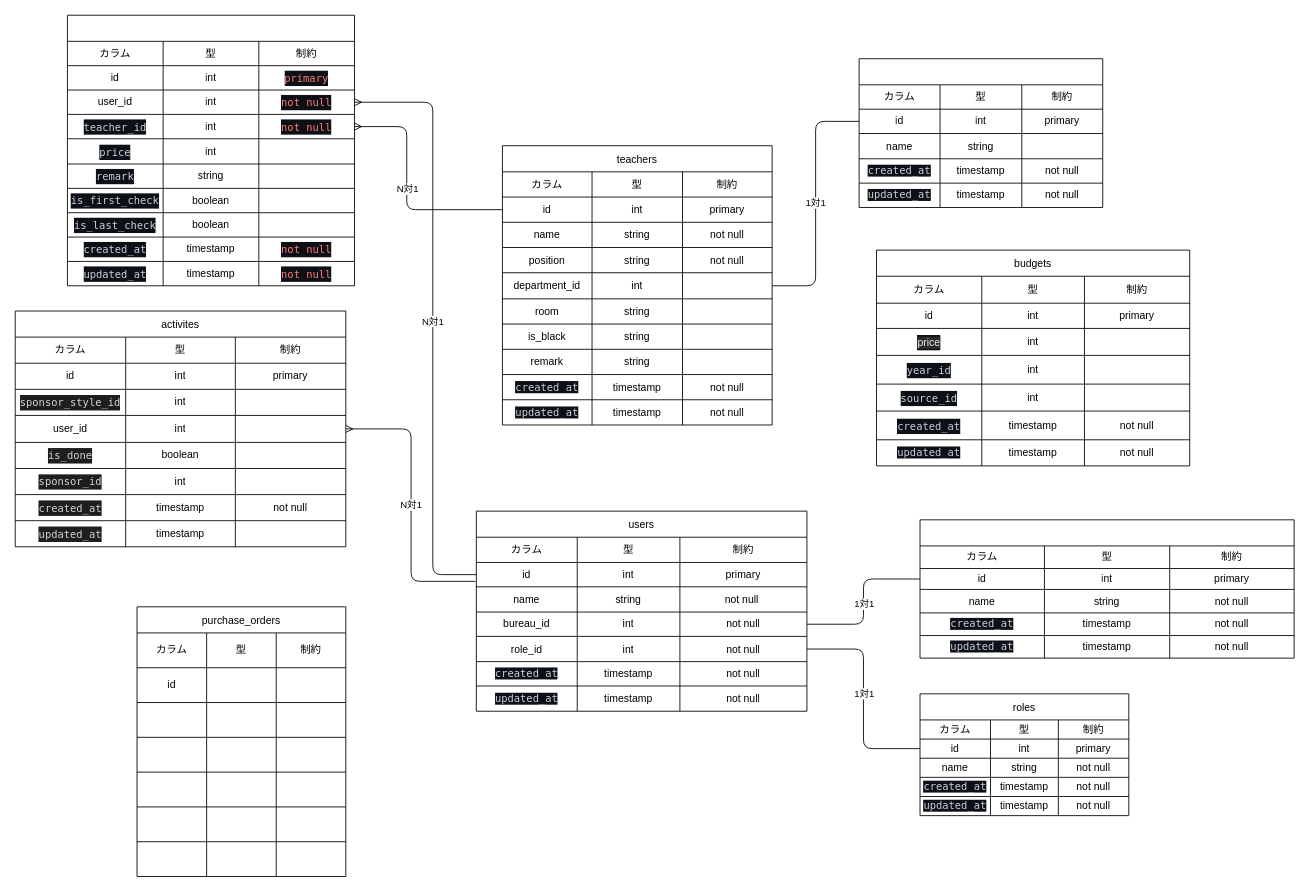
This 1309x892 diagram has some shape labels left out. The shapes that lost their labels are listed below. From the top down, each one's box as (x1, y1, x2, y2) in pixels, then its label:
(67, 14, 355, 286): fund_information
(858, 58, 1103, 207): departments
(919, 519, 1294, 658): bureau
